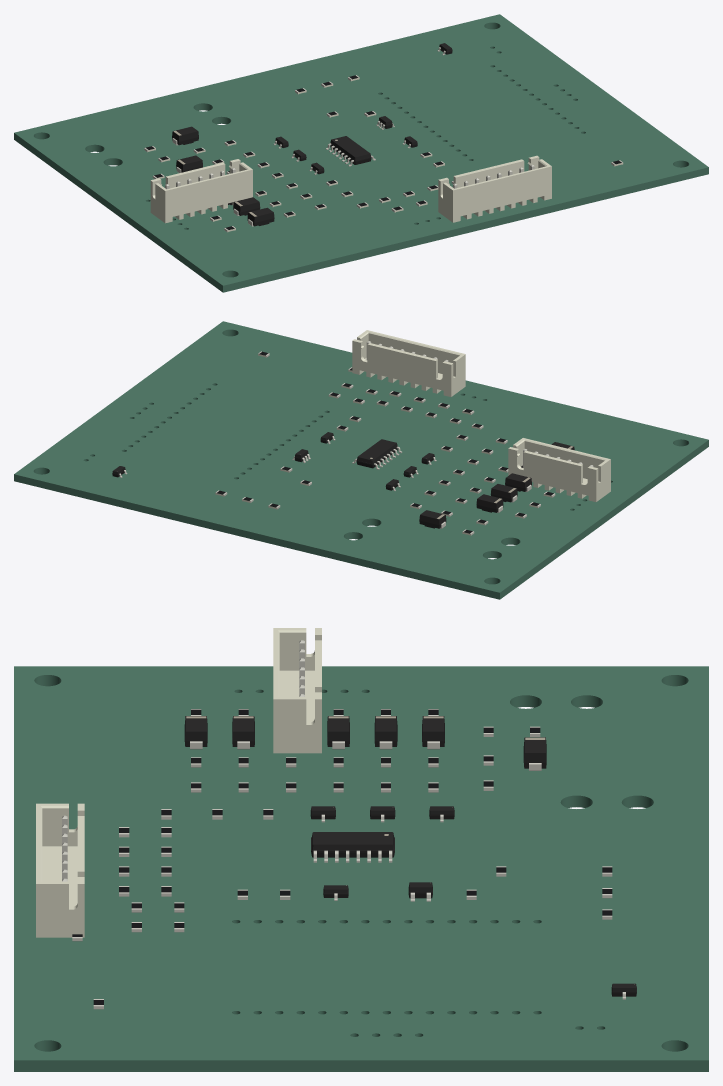
The model's file is cellguard.glb.
The picture shows the model from 3 angles, top to bottom: view 1: azimuth 30°, elevation 25°; view 2: azimuth 150°, elevation 25°; view 3: azimuth 270°, elevation 25°; orthographic projection. The views are drawn at different scales.
Parts seen in each view (by area): view 1: =>[0:1:1:16], =>[0:1:1:13], =>[0:1:1:11], =>[0:1:1:9]; view 2: =>[0:1:1:16], =>[0:1:1:13], =>[0:1:1:11], =>[0:1:1:9]; view 3: =>[0:1:1:16], =>[0:1:1:13], =>[0:1:1:11], =>[0:1:1:5] (×6), =>[0:1:1:9].
Boxes of the visible parts, left/top/right/bottom form: =>[0:1:1:16]: left=14, top=14, right=708, bottom=292; =>[0:1:1:13]: left=438, top=155, right=551, bottom=222; =>[0:1:1:11]: left=150, top=159, right=252, bottom=223; =>[0:1:1:9]: left=325, top=136, right=375, bottom=166; =>[0:1:1:16]: left=14, top=321, right=708, bottom=599; =>[0:1:1:13]: left=352, top=330, right=465, bottom=396; =>[0:1:1:11]: left=508, top=438, right=610, bottom=501; =>[0:1:1:9]: left=352, top=439, right=402, bottom=469; =>[0:1:1:16]: left=14, top=666, right=708, bottom=1071; =>[0:1:1:13]: left=36, top=803, right=84, bottom=937; =>[0:1:1:11]: left=273, top=628, right=321, bottom=753; =>[0:1:1:5] (×6): left=184, top=716, right=546, bottom=770; =>[0:1:1:9]: left=311, top=832, right=394, bottom=862.
Size of the model in its own units: 0.11 by 0.0104 by 0.082.
